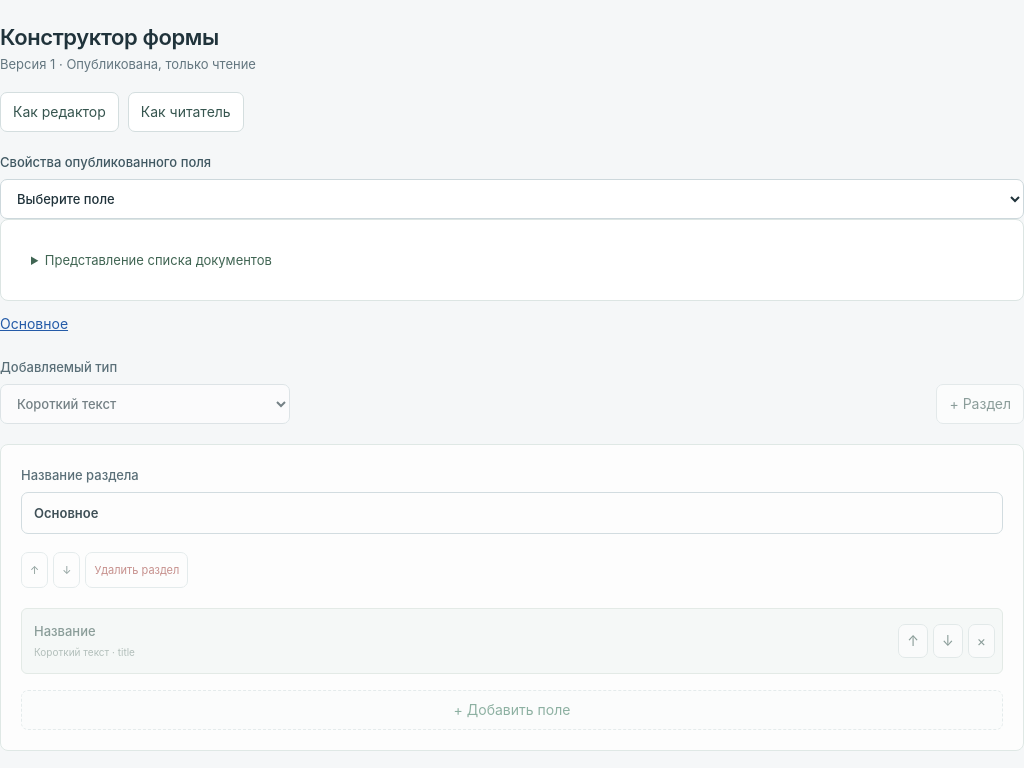
Scenario: preview uses renderer and published snapshots cannot be mutated
Click the button "Как читатель" at (186, 112), box [128,92,244,132]
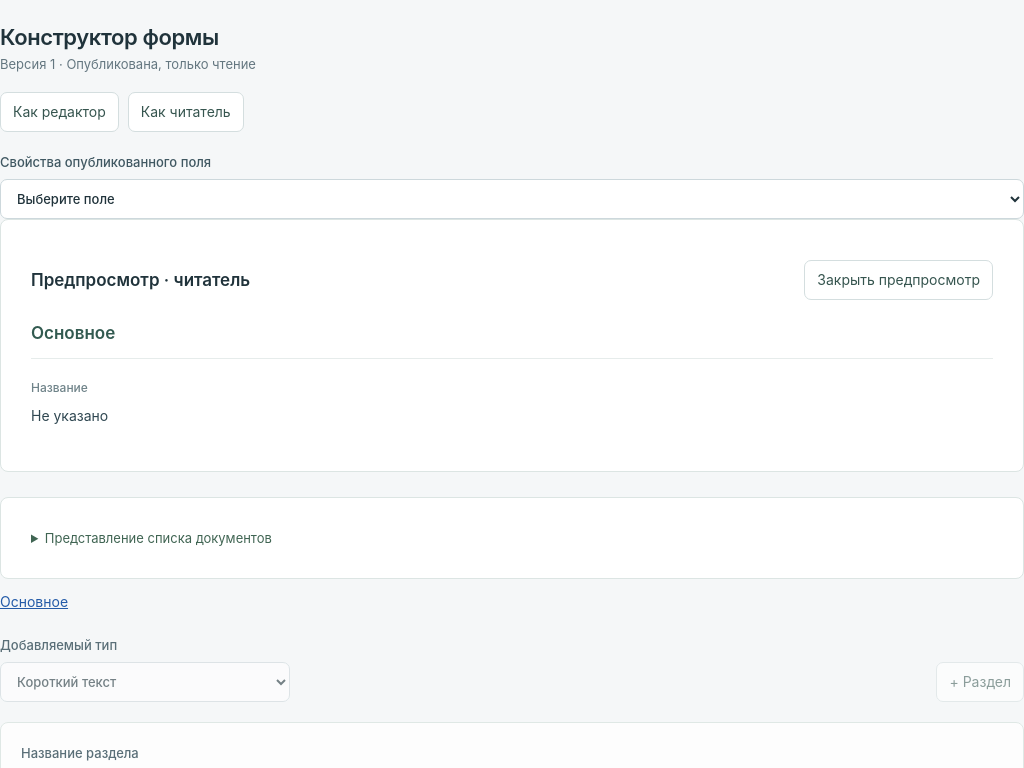
Now the heading "Предпросмотр · читатель" is shown, box [31,267,250,293]
Now the text "Не указано" is shown, box [31,407,108,424]
